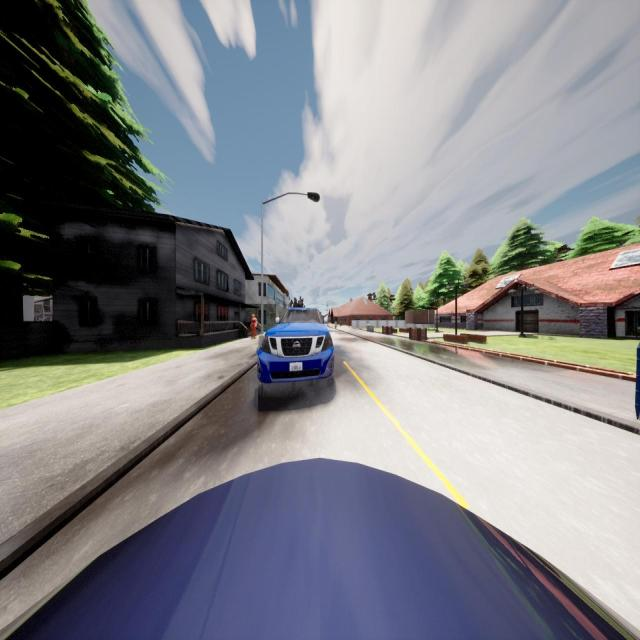Pedestrian: (250, 313, 257, 339)
Vehicle: (0, 458, 640, 640), (257, 307, 335, 385)
